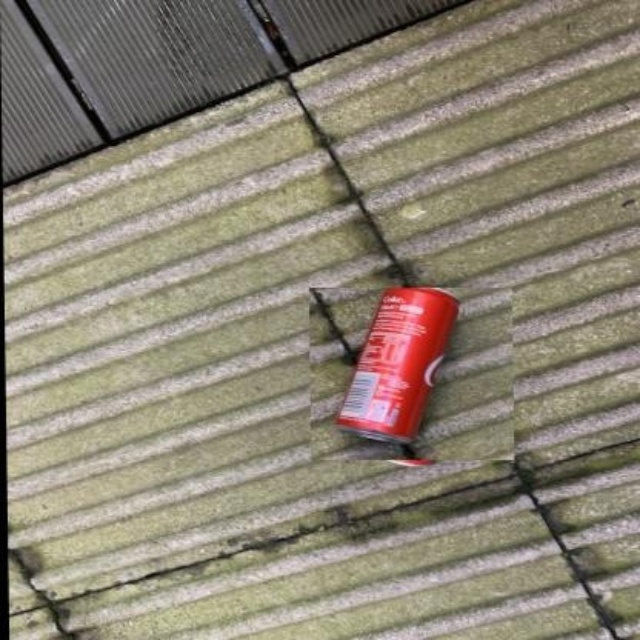trash: (337, 288, 457, 442)
